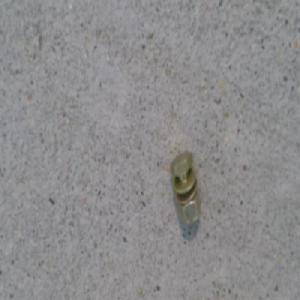BoltNutSet: (170, 152, 201, 225)
